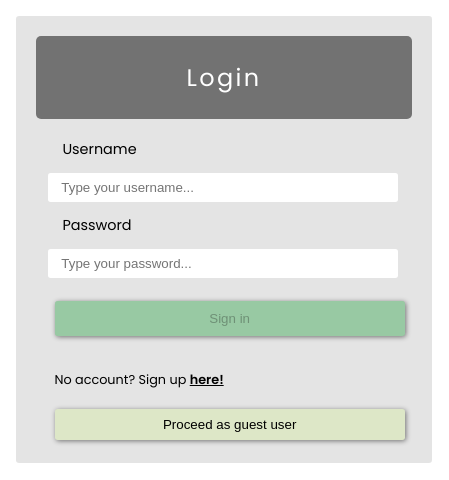
Test: Login button should NOT be disable when input fiels got value
In the field with placeholder "Type your username...": x=223, y=187 [48, 173, 398, 202], type "hej och hååååååå"
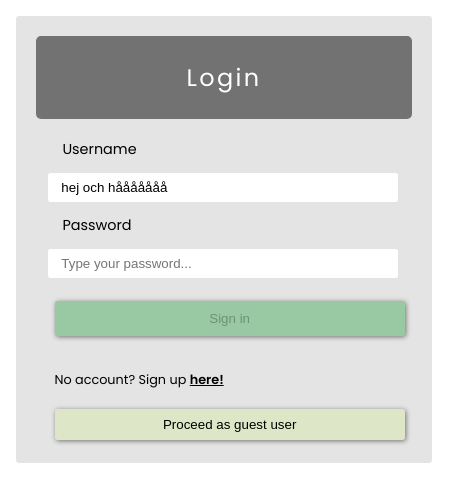
In the password field with placeholder "Type your password...": x=223, y=263 [48, 249, 398, 278], type "hej och hååååååå"
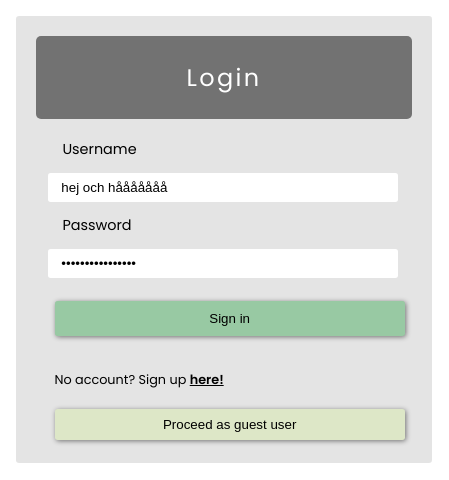
Result: the button with test id "login-btn" is enabled at [55, 301, 405, 336]
